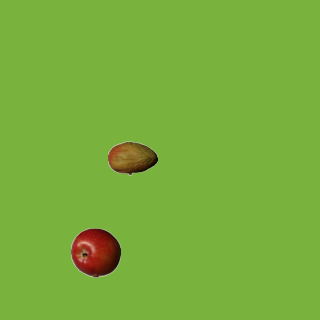Apple Braeburn: (70, 227, 120, 277)
Papaya: (107, 133, 157, 183)
